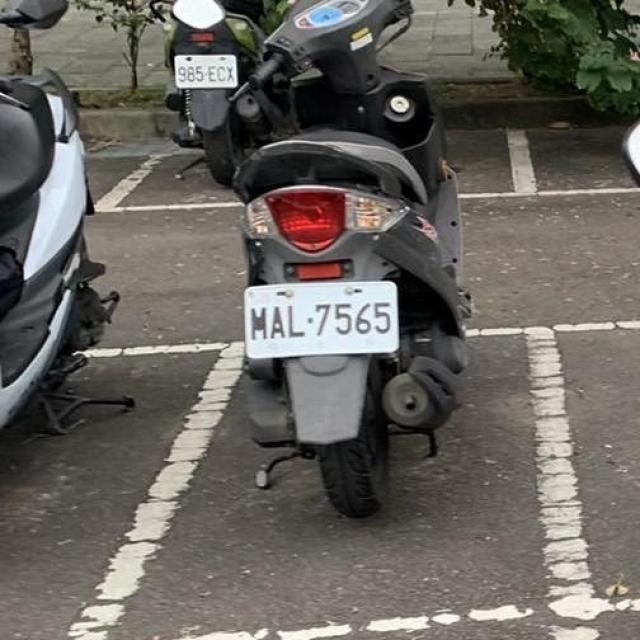W: (235, 275, 404, 362), (165, 49, 243, 92)
